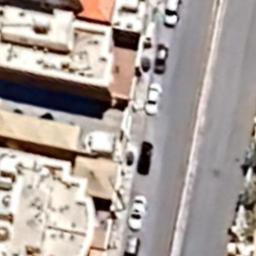sedan: (126, 194, 148, 232), (144, 81, 164, 115), (136, 140, 154, 176), (164, 0, 182, 28), (154, 44, 170, 73), (123, 235, 140, 256)
